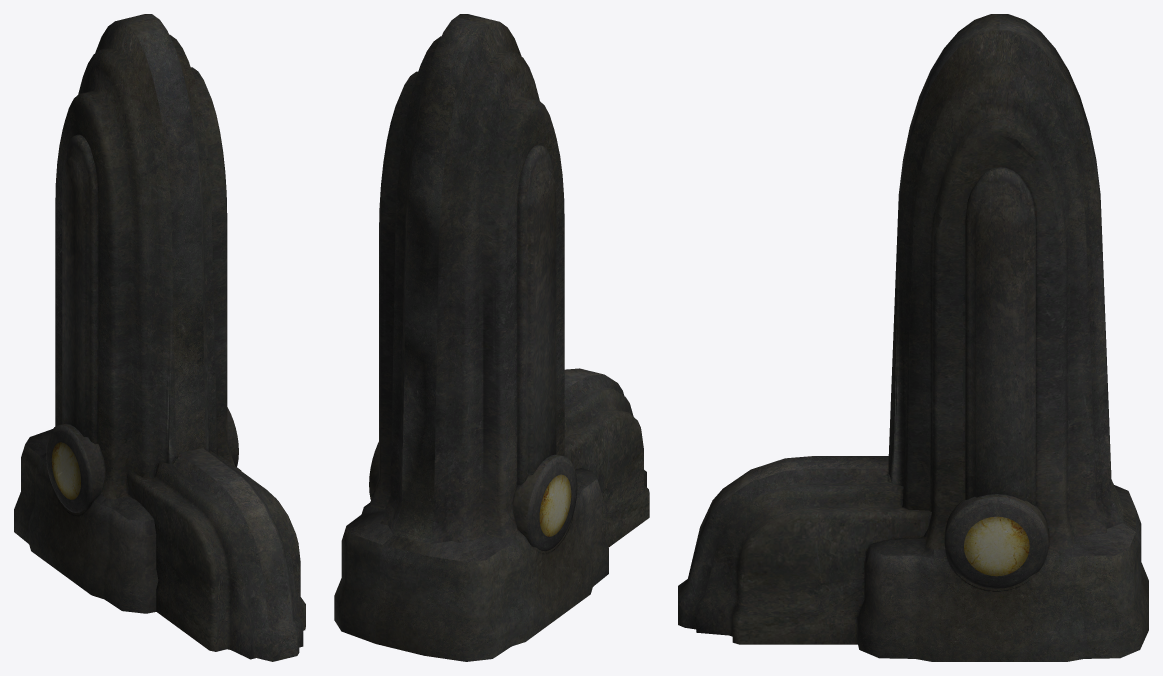
File: StatueLight_01.obj
3 views of the same model, side by side, from view 1: azimuth 30°, elevation 25°; view 2: azimuth 150°, elevation 25°; view 3: azimuth 270°, elevation 25° (orthographic). The views are drawn at different scales.
Parts seen in each view (by area): view 1: StatueLight_01; view 2: StatueLight_01; view 3: StatueLight_01.
Part boxes in pixels (x1,y1,x2,y2): StatueLight_01: [14, 14, 305, 661]; StatueLight_01: [334, 14, 649, 661]; StatueLight_01: [678, 14, 1148, 661].
Size of the model in its own units: 195 by 620 by 444.
Materials: 1 (1 with a texture image).
